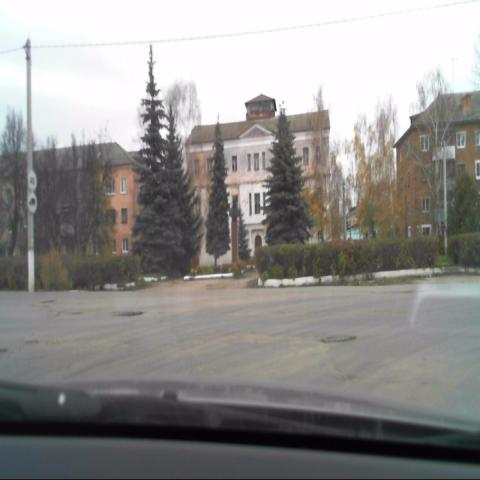3_4_1: (27, 191, 39, 213)
